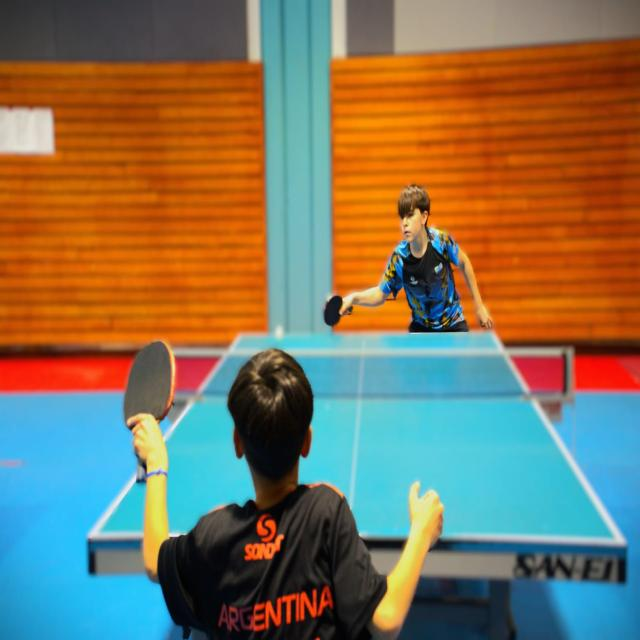TT Net: (145, 339, 576, 420)
TT Racket: (118, 334, 186, 490), (320, 290, 358, 332)
TT Table: (88, 317, 633, 546)
